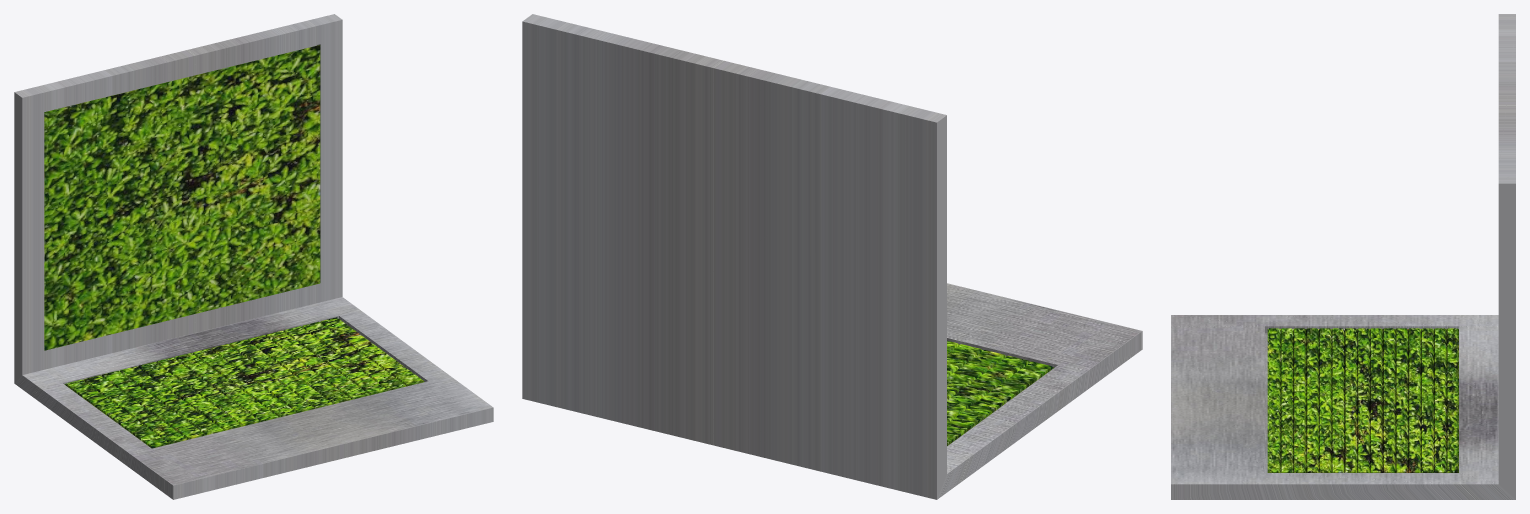
The model's file is ordi.FBX.
3 renders of one model, left to right at view 1: azimuth 30°, elevation 25°; view 2: azimuth 150°, elevation 25°; view 3: azimuth 270°, elevation 25°, orthographic. The views are drawn at different scales.
Visible parts, largest first — view 1: Plane002, Plane001, Plane003; view 2: Plane001, Plane003; view 3: Plane001, Plane003.
Part boxes in pixels (box(x1,y1,x2,y2)): Plane002: box(44, 45, 320, 350); Plane001: box(14, 14, 493, 499); Plane003: box(64, 317, 424, 448); Plane001: box(522, 14, 1142, 499); Plane003: box(947, 340, 1054, 445); Plane001: box(1171, 14, 1515, 499); Plane003: box(1267, 328, 1458, 472).
Bounding box in the file's own units: 20 × 17.4 × 17.19.
